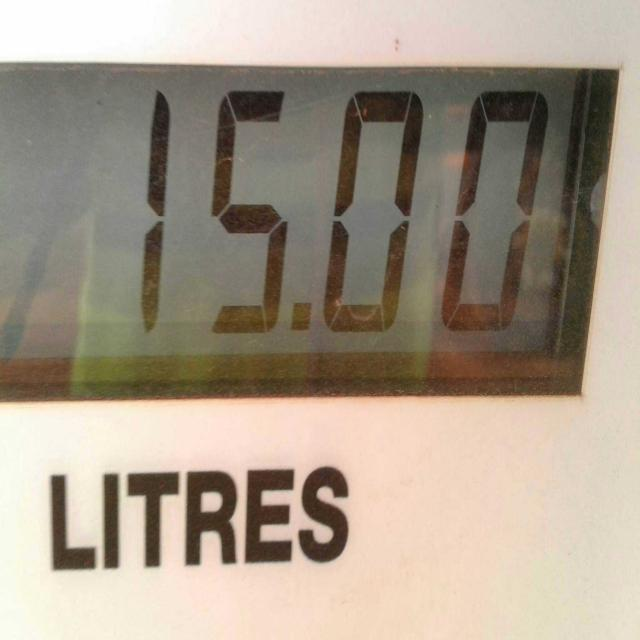.: (286, 283, 317, 367)
0: (433, 86, 558, 351), (318, 81, 437, 332)
1: (126, 82, 186, 370)
5: (197, 86, 297, 351)
